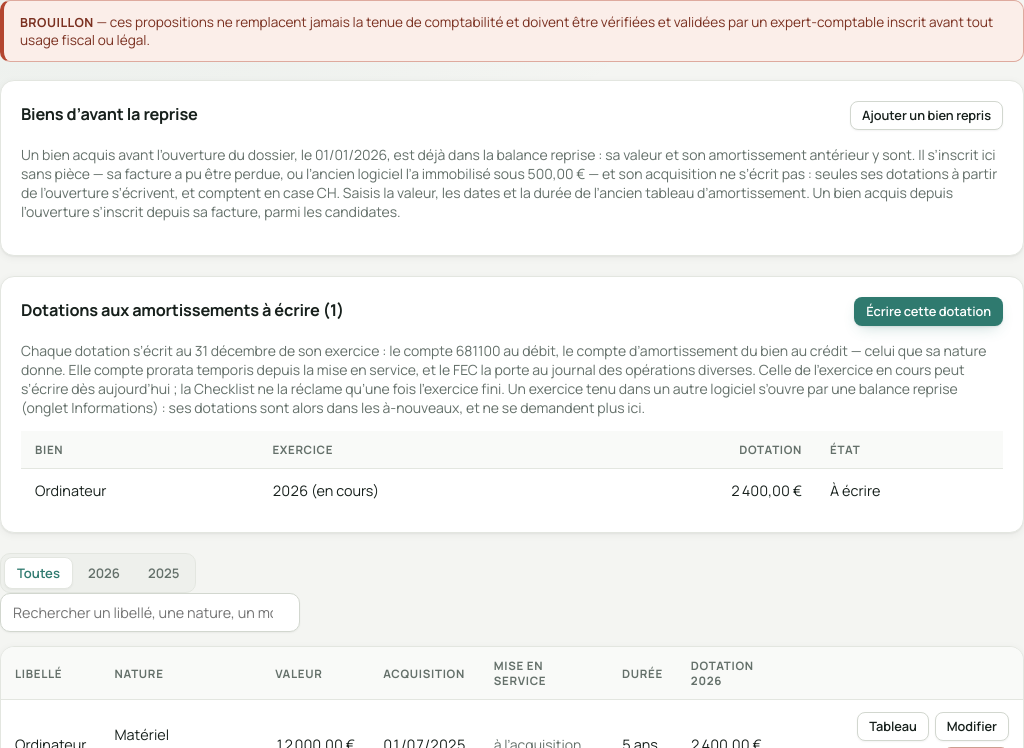
Test: ImmobilisationsTab — le tableau d’amortissement › un exercice repris dans les à-nouveaux le dit, et ne se demande pas
What coordinates should you click on to do the following:
click the button "Tableau"
I would click on:
 (893, 727)
Its box is [857,712,929,741].
(page scrolled)
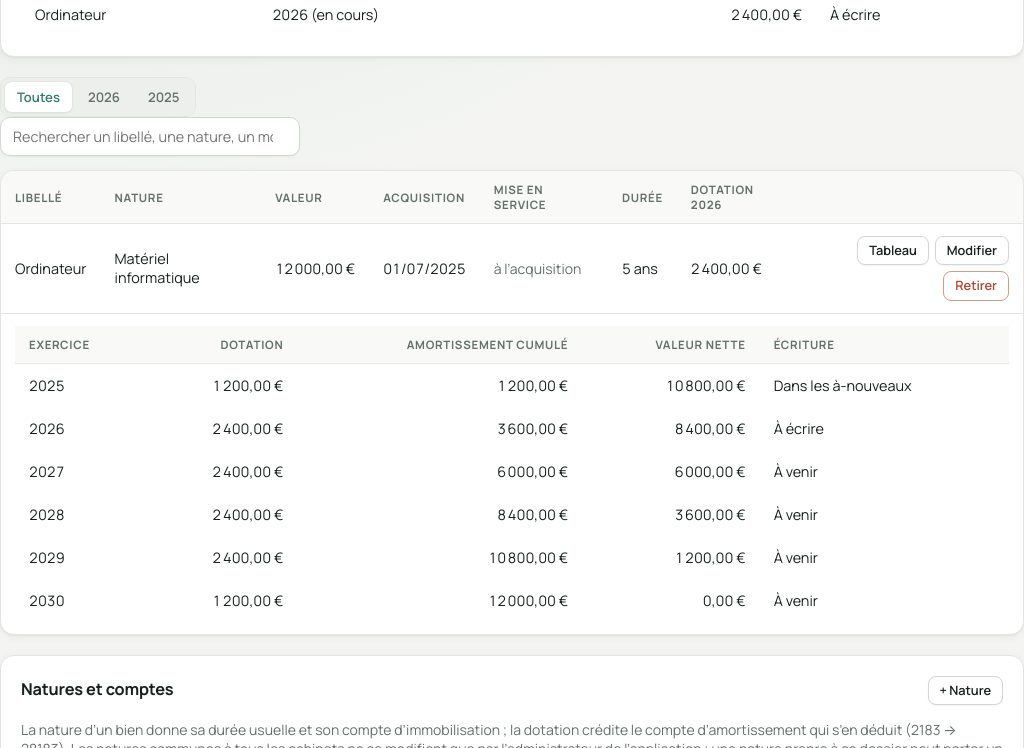
Expected: the text "Dans les à-nouveaux" is shown, [760,363,1009,407]
